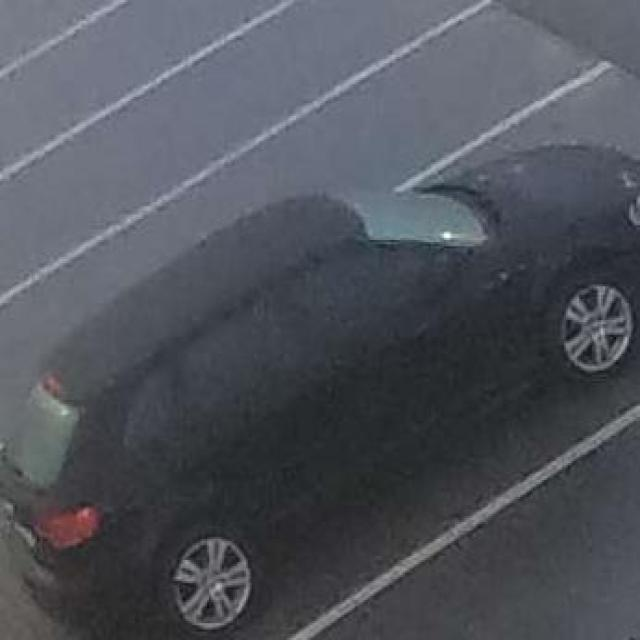Car: (28, 95, 621, 635)
